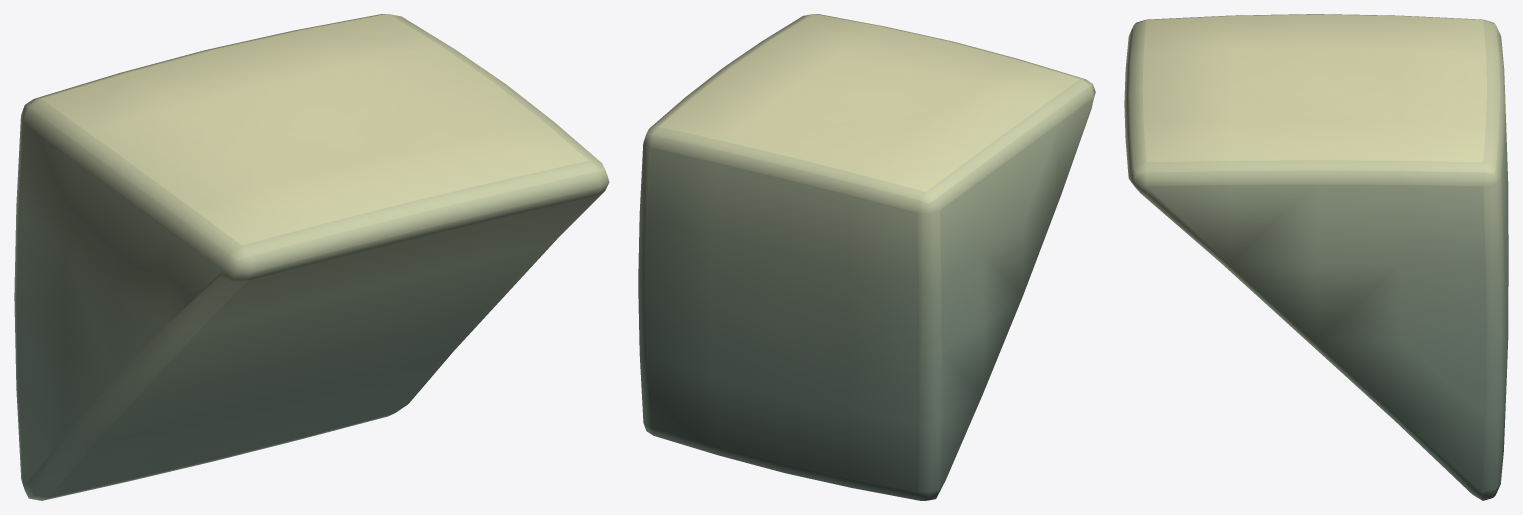
Rendered from Stone_Plain_SlopeUnder_Light.fbx.
The picture shows the model from 3 angles, left to right: view 1: azimuth 30°, elevation 25°; view 2: azimuth 150°, elevation 25°; view 3: azimuth 270°, elevation 25°; orthographic projection. The views are drawn at different scales.
Visible parts, largest first — view 1: Stone_Plain_SlopeUnder_Light_LOD0; view 2: Stone_Plain_SlopeUnder_Light_LOD0; view 3: Stone_Plain_SlopeUnder_Light_LOD0.
Boxes of the visible parts, x1=… form: Stone_Plain_SlopeUnder_Light_LOD0: x1=14, y1=14, x2=609, y2=500; Stone_Plain_SlopeUnder_Light_LOD0: x1=638, y1=14, x2=1095, y2=500; Stone_Plain_SlopeUnder_Light_LOD0: x1=1124, y1=14, x2=1508, y2=500.
Size of what is drawn, in the model's own units: 1.09 by 1.08 by 1.08.
